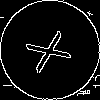X: (25, 25, 81, 74)
